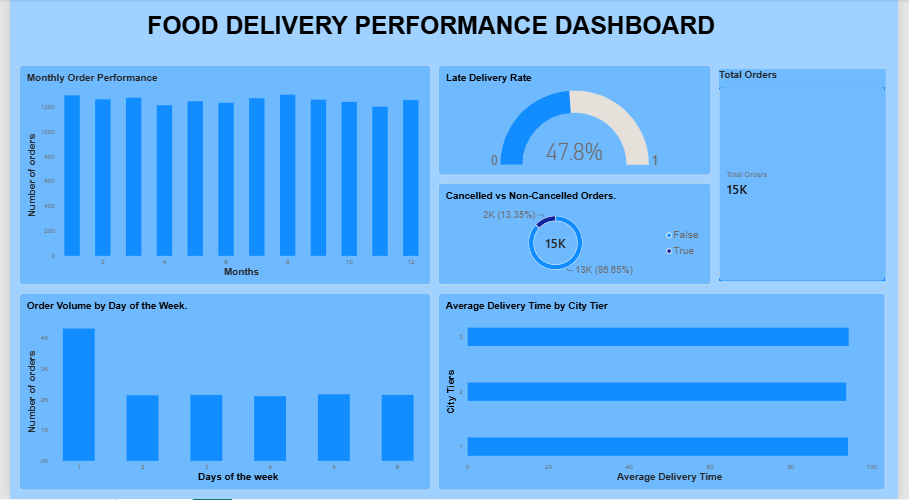

This screenshot's page, from the dashboard's own definition file:
{"tool":"powerbi","page":{"name":"Page 1","canvas":[1920,1080],"ordinal":0},"visuals":[{"type":"cardVisual","title":"Total Orders","fields":{"Data":["Food Delivery cleaned dataset.Total Orders"]},"box":[1531.4,151.2,358.6,457.9],"z":0},{"type":"clusteredColumnChart","title":"Monthly Order Performance","fields":{"Category":["Food Delivery cleaned dataset.Order Month"],"Y":["Food Delivery cleaned dataset.Total Orders"]},"box":[19.4,142.6,889.9,475.2],"z":1},{"type":"clusteredColumnChart","title":"Order Volume by Day of the Week.","fields":{"Category":["Food Delivery cleaned dataset.Order Day Of Week"],"Y":["Food Delivery cleaned dataset.Total Orders"]},"box":[19.4,635,889.9,425.5],"z":2},{"type":"gauge","title":"Late Delivery Rate","fields":{"MaxValue":["Food Delivery cleaned dataset.Gauge Maximum"],"MinValue":["Food Delivery cleaned dataset.Gauge Minimum"],"Y":["Food Delivery cleaned dataset.Late deliveries Percentage"]},"box":[924.5,142.6,589.7,237.6],"z":3},{"type":"clusteredBarChart","title":"Average Delivery Time by City Tier","fields":{"Category":["Food Delivery cleaned dataset.City Tier"],"Y":["Food Delivery cleaned dataset.Average delivery time"]},"box":[924.5,635,965.5,425.5],"z":4},{"type":"donutChart","title":"Cancelled vs Non-Cancelled Orders.","fields":{"Category":["Food Delivery cleaned dataset.Cancellation Flag"],"Y":["CountNonNull(Food Delivery cleaned dataset.Cancellation Flag)"]},"box":[924.5,397.4,589.7,220.3],"z":5},{"type":"textbox","box":[58.3,0,1702.1,181.4],"z":6}]}

Visuals, with their boxes in screenshot pixels (x1, y1, x2, y2), scaled from the page's 1920x1080 canvas onto the 909x500 screenshot:
"Total Orders" cardVisual: [x1=725, y1=70, x2=895, y2=282]
"Monthly Order Performance" clusteredColumnChart: [x1=9, y1=66, x2=430, y2=286]
"Order Volume by Day of the Week." clusteredColumnChart: [x1=9, y1=294, x2=430, y2=491]
"Late Delivery Rate" gauge: [x1=438, y1=66, x2=717, y2=176]
"Average Delivery Time by City Tier" clusteredBarChart: [x1=438, y1=294, x2=895, y2=491]
"Cancelled vs Non-Cancelled Orders." donutChart: [x1=438, y1=184, x2=717, y2=286]
textbox: [x1=28, y1=0, x2=833, y2=84]
